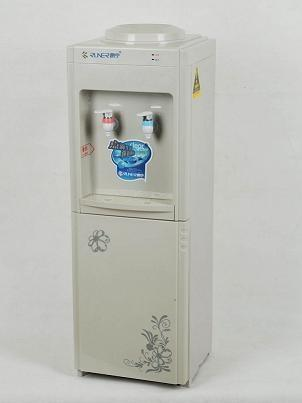Dispenser: (66, 22, 215, 386)
